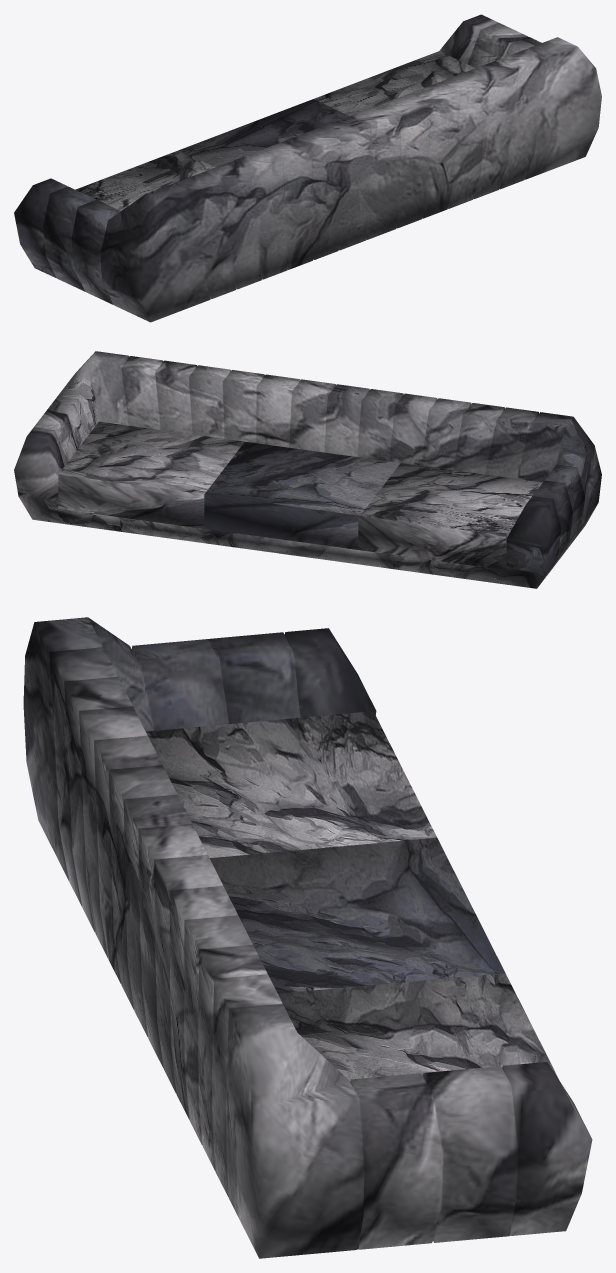
Rendered from Sillon.obj.
The picture shows the model from 3 angles, top to bottom: view 1: azimuth 30°, elevation 25°; view 2: azimuth 150°, elevation 25°; view 3: azimuth 270°, elevation 25°; orthographic projection. The views are drawn at different scales.
Parts seen in each view (by area): view 1: Sillon:Mesh; view 2: Sillon:Mesh; view 3: Sillon:Mesh.
Part boxes in pixels (x1,y1,x2,y2): Sillon:Mesh: [14, 14, 601, 322]; Sillon:Mesh: [14, 351, 601, 588]; Sillon:Mesh: [23, 617, 592, 1258].
Size of the model in its own units: 1.89 by 0.3748 by 0.9172.
Materials: 4 (4 with a texture image).
